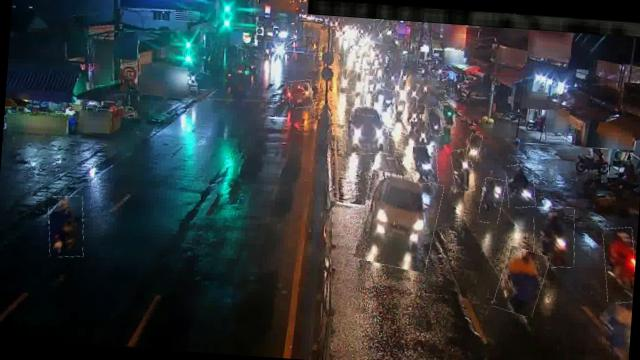Bike: (495, 246, 548, 316), (600, 226, 638, 304), (530, 204, 576, 268), (45, 195, 85, 258), (504, 163, 536, 209), (478, 177, 504, 223), (449, 148, 475, 192), (411, 144, 438, 184), (576, 146, 610, 176), (438, 100, 456, 127), (373, 88, 395, 109), (427, 107, 442, 137), (408, 100, 422, 131), (466, 134, 481, 162), (393, 94, 408, 120), (410, 82, 420, 101)
Car: (356, 172, 442, 272), (342, 106, 389, 154), (286, 79, 314, 109), (339, 68, 365, 96)
